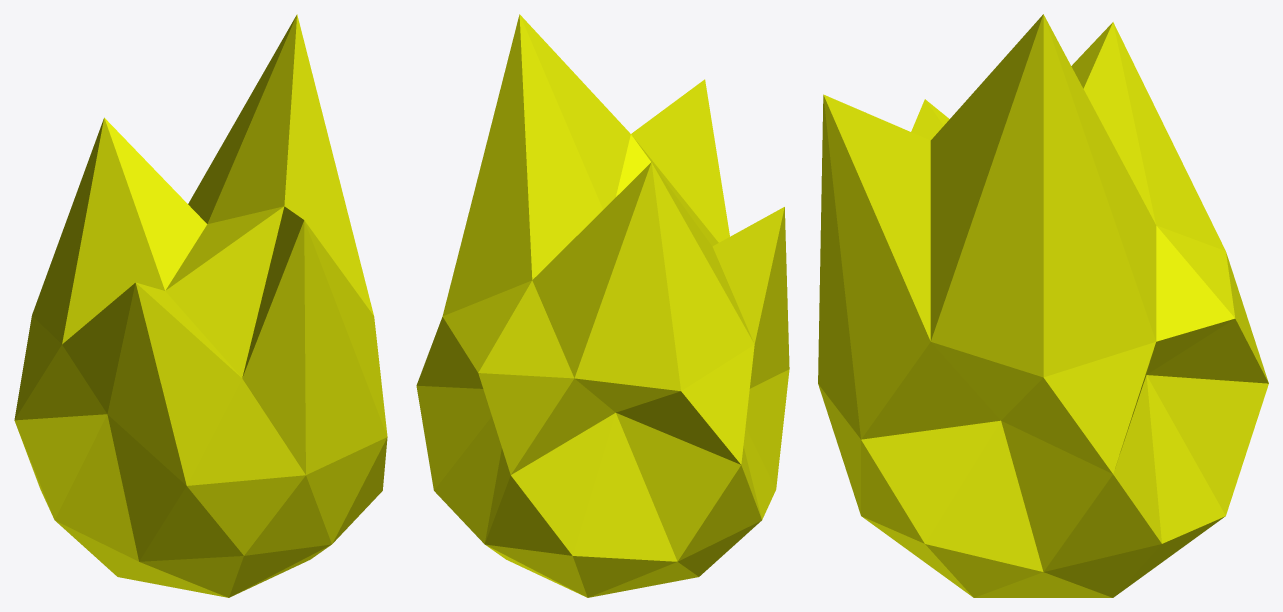
The model's file is fire.fbx.
The picture shows the model from 3 angles, left to right: view 1: azimuth 30°, elevation 25°; view 2: azimuth 150°, elevation 25°; view 3: azimuth 270°, elevation 25°; orthographic projection. The views are drawn at different scales.
Parts seen in each view (by area): view 1: campfire.001; view 2: campfire.001; view 3: campfire.001.
Part boxes in pixels (bbox=[...]): campfire.001: bbox=[14, 14, 387, 597]; campfire.001: bbox=[416, 14, 789, 597]; campfire.001: bbox=[818, 14, 1268, 597].
Bounding box in the file's own units: 9.37 × 15.04 × 9.85.
